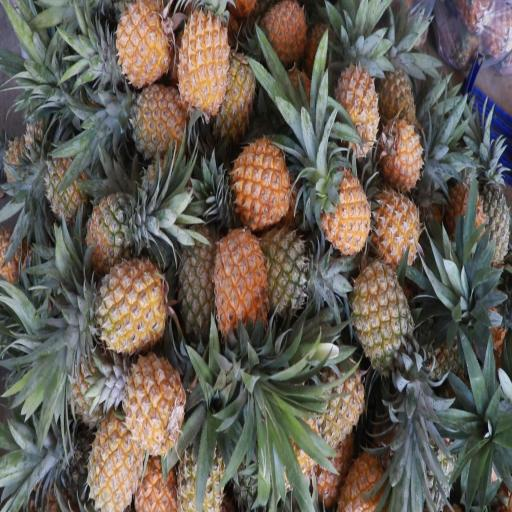------------------------------: (344, 247, 417, 372), (83, 184, 146, 275)
Pineapple - v8 v1: (82, 247, 169, 348), (210, 211, 267, 352), (120, 347, 189, 460), (117, 70, 190, 164), (83, 396, 143, 509), (226, 136, 292, 232), (332, 32, 382, 156), (316, 155, 372, 261), (174, 4, 231, 104), (309, 343, 368, 439), (114, 0, 169, 78), (372, 186, 422, 269), (254, 0, 308, 75), (374, 106, 422, 189)
